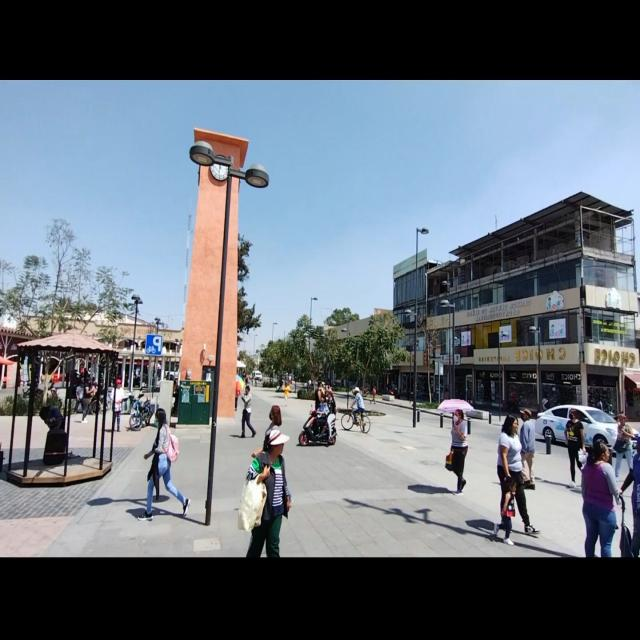adult: (137, 408, 191, 520), (244, 430, 291, 557), (497, 413, 541, 532), (581, 440, 620, 556), (448, 409, 469, 497), (564, 408, 586, 488), (251, 403, 282, 459), (614, 414, 634, 482), (314, 391, 336, 441), (240, 386, 256, 437), (110, 378, 125, 432), (350, 387, 365, 430)
child: (494, 477, 516, 546)
